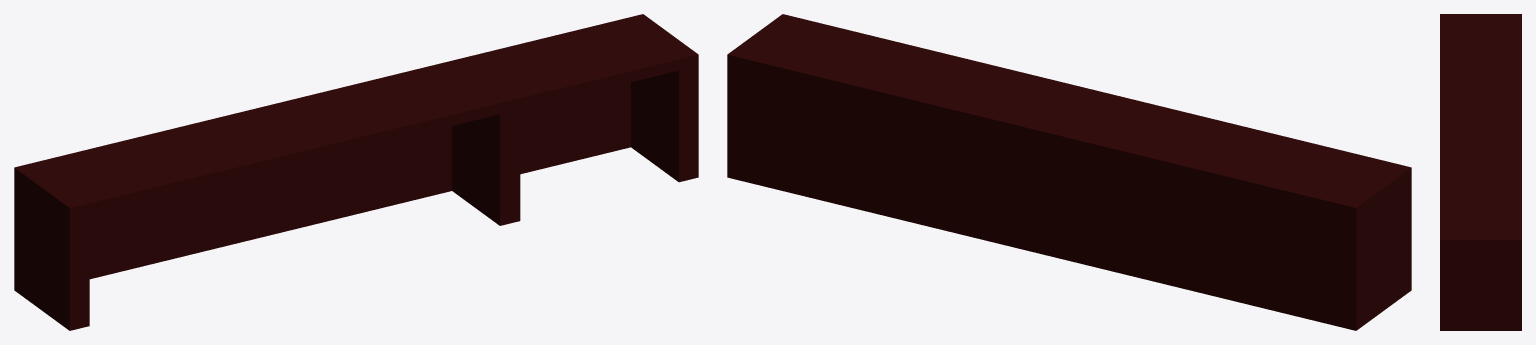
The model's file is Desk_Blockout.fbx.
3 renders of one model, left to right at view 1: azimuth 30°, elevation 25°; view 2: azimuth 150°, elevation 25°; view 3: azimuth 270°, elevation 25°, orthographic. The views are drawn at different scales.
Parts seen in each view (by area): view 1: Desk_Blockout; view 2: Desk_Blockout; view 3: Desk_Blockout.
Part boxes in pixels (<box>): Desk_Blockout: <box>14,14,698,330</box>; Desk_Blockout: <box>727,14,1411,330</box>; Desk_Blockout: <box>1440,14,1521,330</box>.
Bounding box in the file's own units: 850 × 159 × 130.
